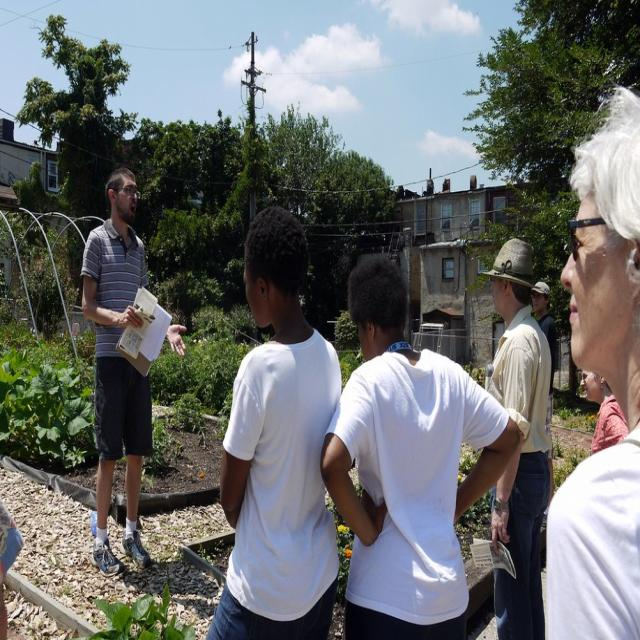Glasses: (566, 214, 606, 264), (115, 185, 141, 200)
